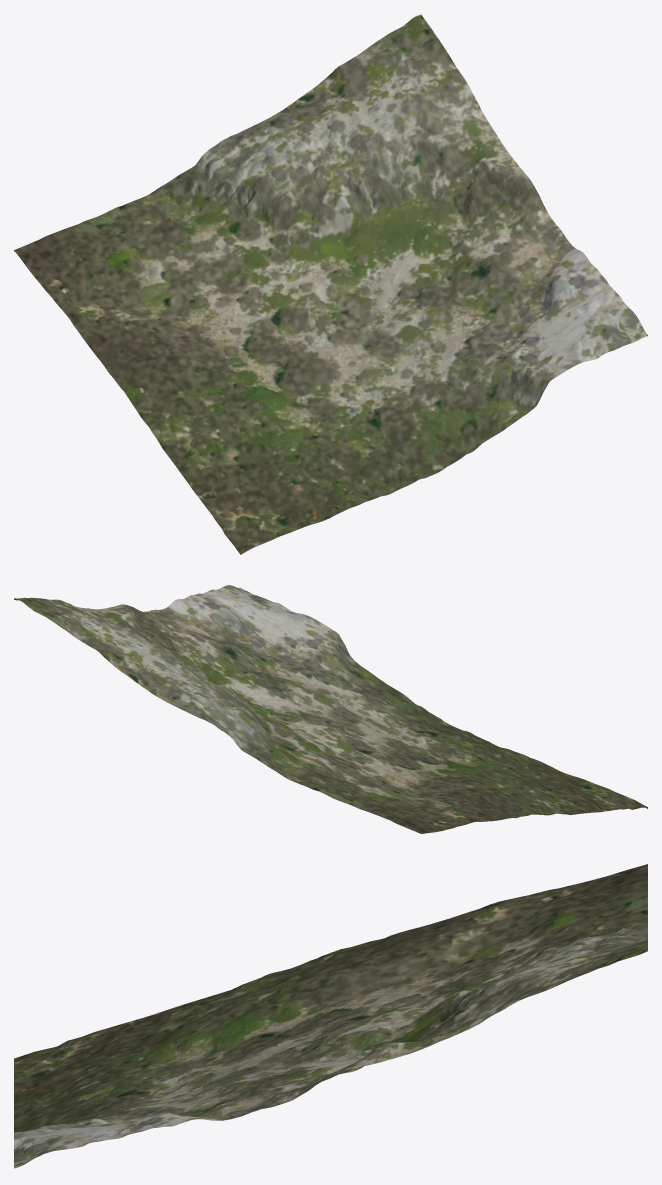
3 renders of one model, top to bottom at view 1: azimuth 30°, elevation 25°; view 2: azimuth 150°, elevation 25°; view 3: azimuth 270°, elevation 25°, orthographic. The views are drawn at different scales.
Bounding box in the file's own units: 250 × 162 × 241.
1 material, 1 textured.
